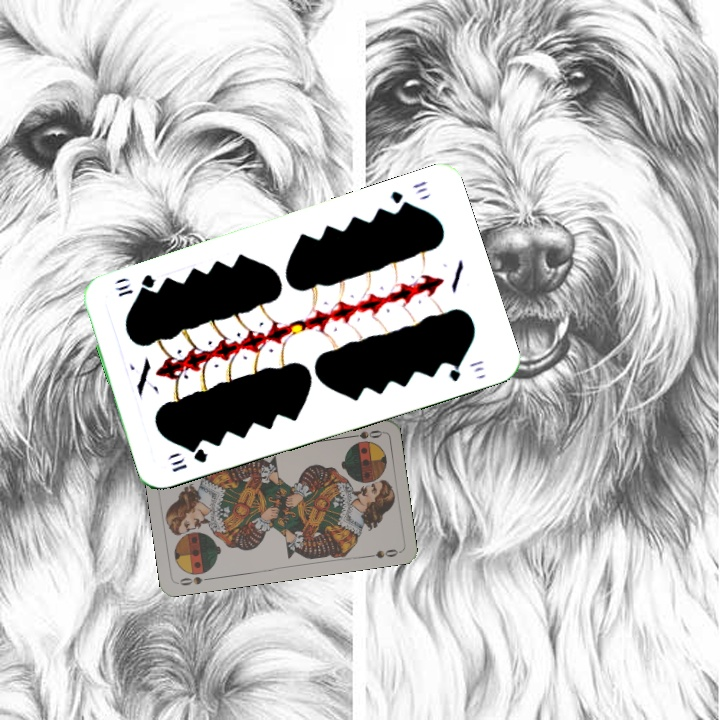G10: (386, 176, 430, 212), (168, 444, 210, 475)
SO: (344, 426, 384, 442), (174, 572, 214, 588)
